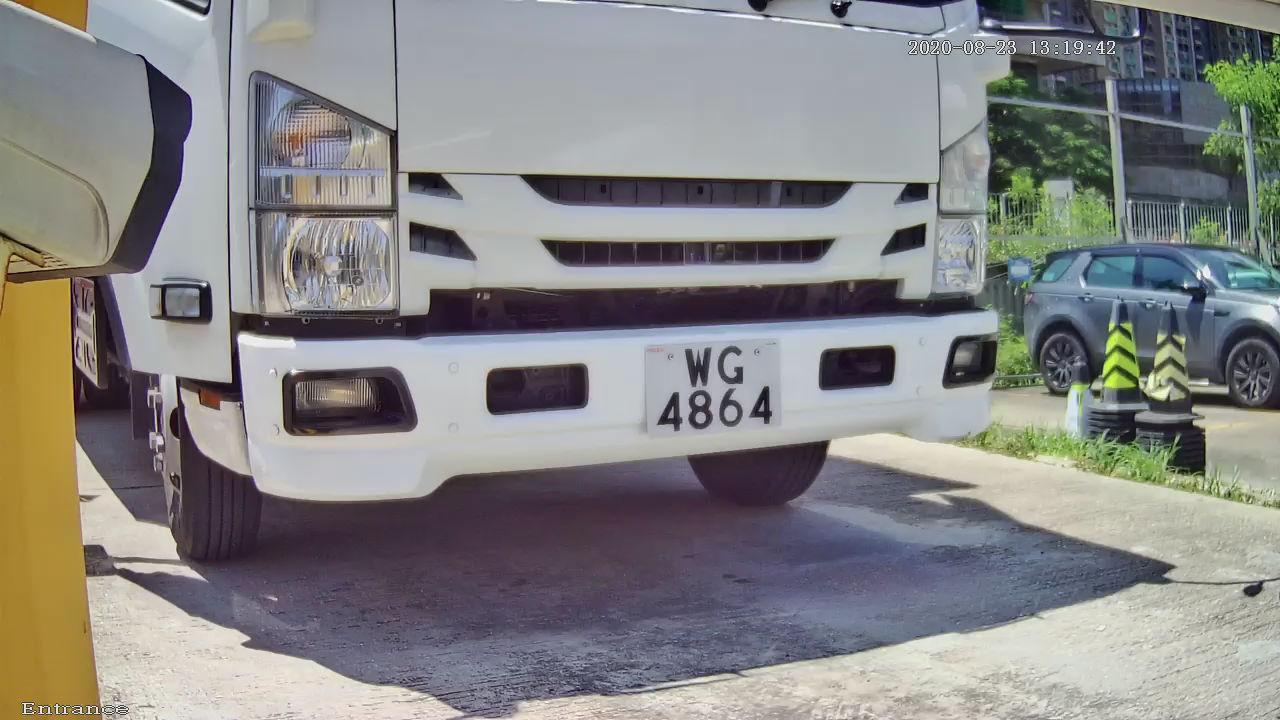License Plate: (572, 325, 818, 463)
